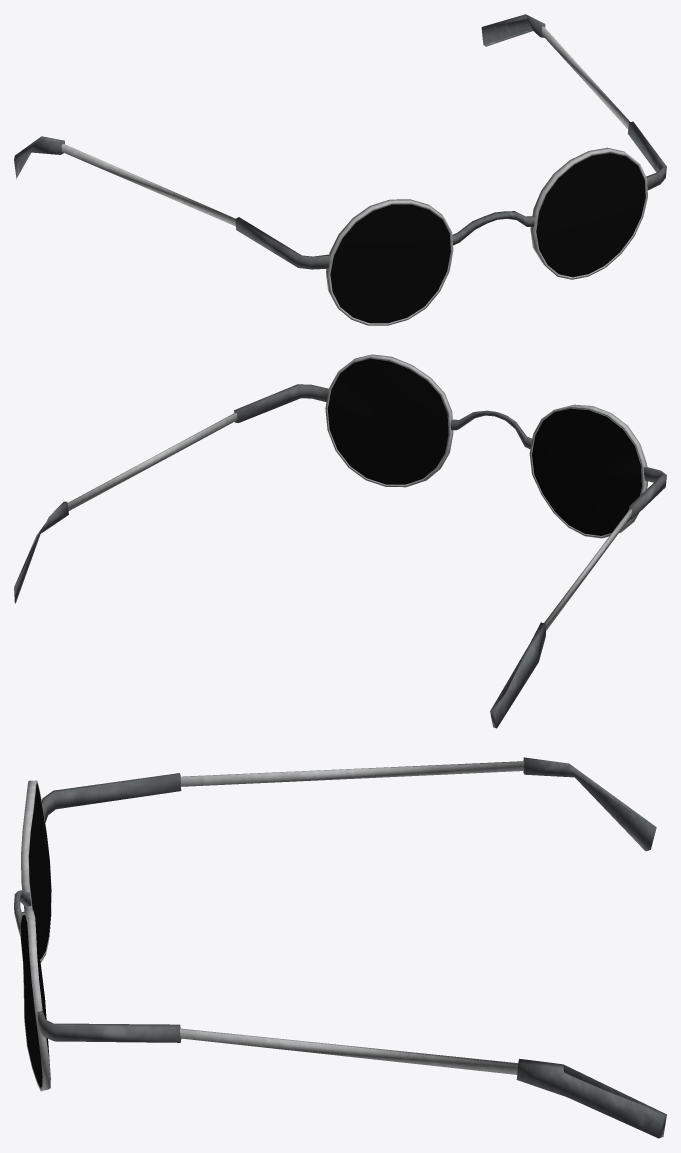
File: Glasses.FBX
The picture shows the model from 3 angles, top to bottom: view 1: azimuth 30°, elevation 25°; view 2: azimuth 150°, elevation 25°; view 3: azimuth 270°, elevation 25°; orthographic projection. The views are drawn at different scales.
Parts seen in each view (by area): view 1: glasses; view 2: glasses; view 3: glasses.
Boxes of the visible parts, x1=… form: glasses: x1=14, y1=14, x2=666, y2=325; glasses: x1=14, y1=354, x2=666, y2=728; glasses: x1=14, y1=757, x2=666, y2=1138.
Size of the model in its own units: 243 by 208 by 58.48.
1 material, 1 textured.
